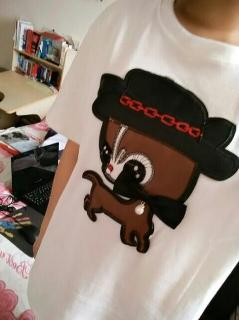short sleeve top: (26, 0, 239, 319)
